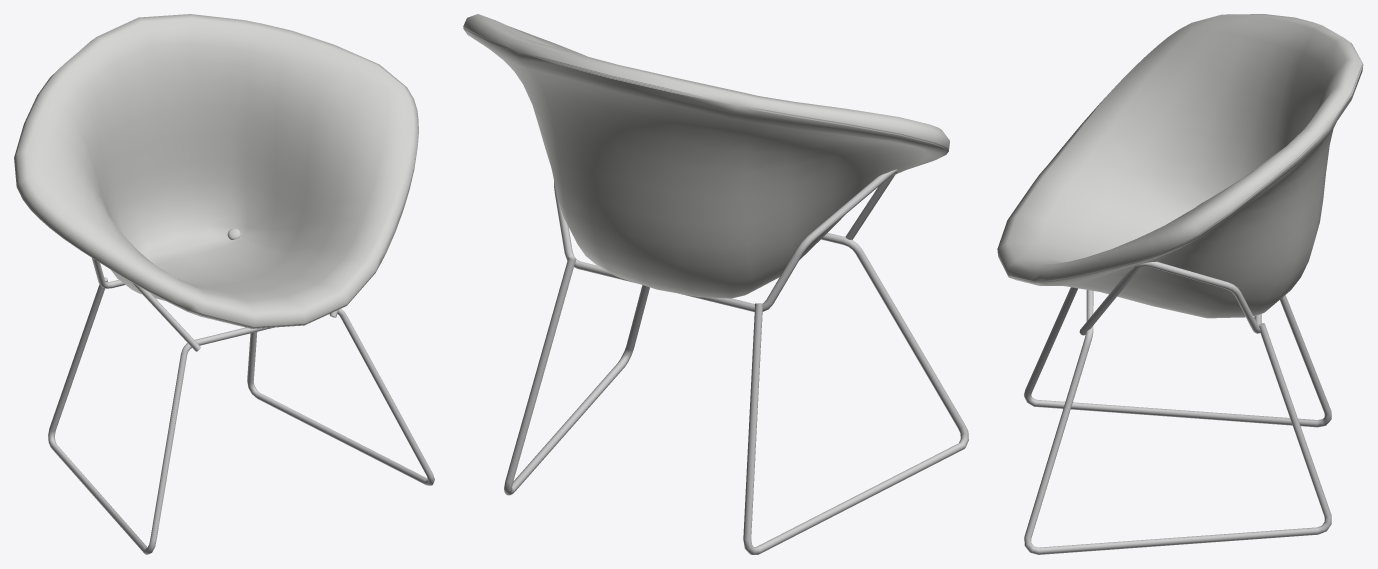
File: WhiteLeather001.FBX
3 renders of one model, left to right at view 1: azimuth 30°, elevation 25°; view 2: azimuth 150°, elevation 25°; view 3: azimuth 270°, elevation 25°, orthographic. The views are drawn at different scales.
Visible parts, largest first — view 1: WhiteLeather001; view 2: WhiteLeather001; view 3: WhiteLeather001.
Part boxes in pixels (left/top/right/bottom): WhiteLeather001: left=14, top=14, right=434, bottom=554; WhiteLeather001: left=463, top=14, right=968, bottom=554; WhiteLeather001: left=997, top=14, right=1363, bottom=554.
Bounding box in the file's own units: 2.71 × 2.61 × 2.05.
